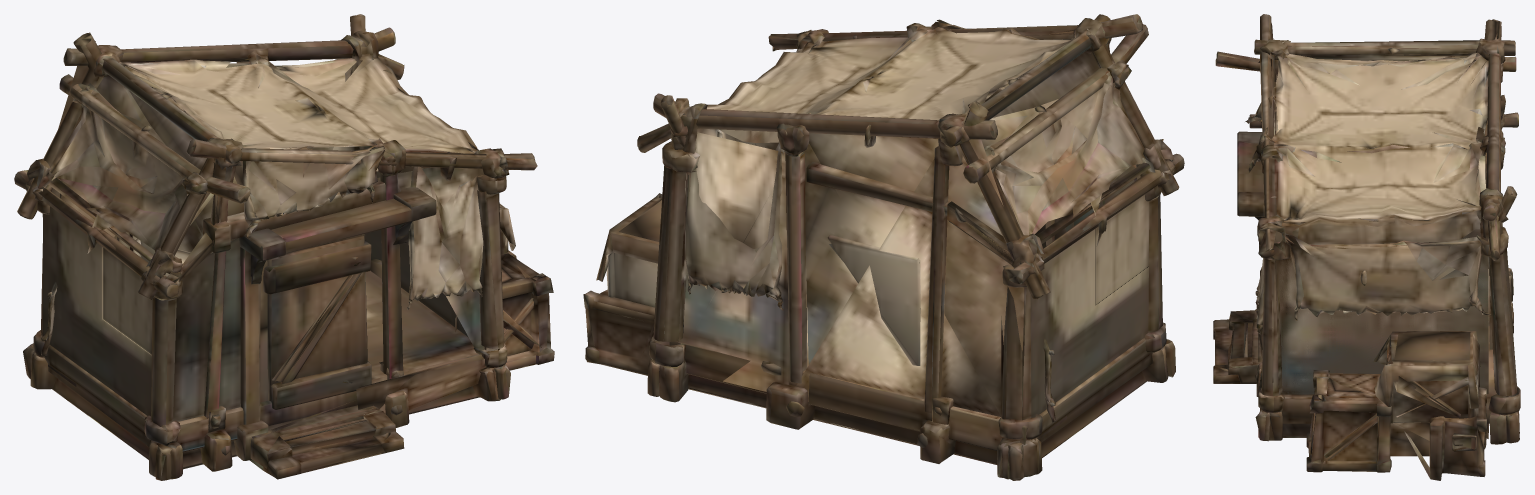
Rendered from shelter_t1_storage.glb.
3 views of the same model, side by side, from view 1: azimuth 30°, elevation 25°; view 2: azimuth 150°, elevation 25°; view 3: azimuth 270°, elevation 25° (orthographic). The views are drawn at different scales.
Bounding box in the file's own units: 0.2563 × 0.1875 × 0.1733.
1 material, 1 textured.
